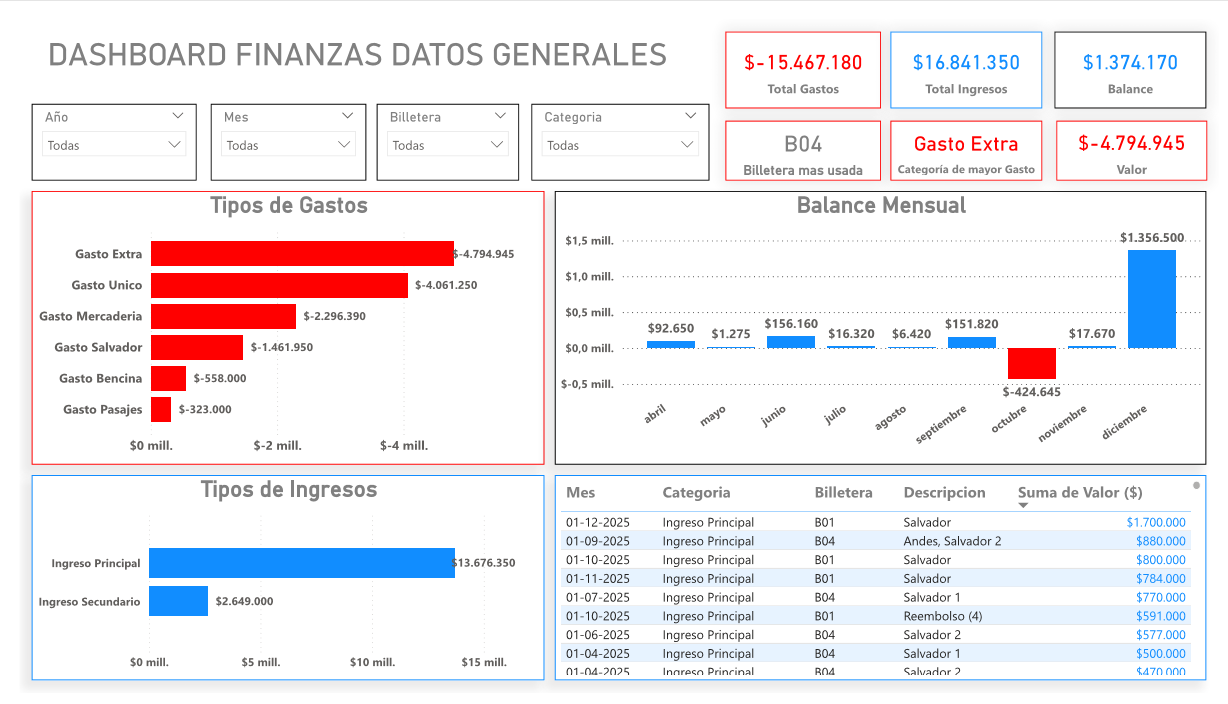

The page's visual inventory and layout, read from the dashboard file:
{"tool":"powerbi","page":{"name":"Dashboard Finanzas","canvas":[1280,720],"ordinal":0},"visuals":[{"type":"card","fields":{"Values":["Tabla_Finanzas.Total Gastos"]},"box":[752.9,14.3,165.7,81.4],"z":0},{"type":"card","fields":{"Values":["Min(Tabla_Finanzas.Categoria)"]},"box":[928.6,108.6,162.9,64.3],"z":1000},{"type":"card","fields":{"Values":["Min(Tabla_Finanzas.Billetera)"]},"box":[752.9,108.6,165.7,64.3],"z":2000},{"type":"barChart","title":"Tipos de Gastos","fields":{"Category":["Tabla_Finanzas.Categoria"],"Y":["Sum(Tabla_Finanzas.Valor ($))"]},"box":[12.9,184.3,547.1,291.4],"z":3000},{"type":"columnChart","title":"Balance Mensual","fields":{"Y":["Sum(Tabla_Finanzas.Valor ($))"],"Category":["Calendario.Date.Variación.Jerarquía de fechas.Mes"]},"box":[571.4,184.3,694.3,291.4],"z":4000},{"type":"tableEx","fields":{"Values":["Tabla_Finanzas.Mes","Tabla_Finanzas.Categoria","Tabla_Finanzas.Billetera","Tabla_Finanzas.Descripcion","Sum(Tabla_Finanzas.Valor ($))"]},"box":[571.4,487.1,694.3,218.6],"z":5000},{"type":"slicer","fields":{"Values":["Calendario.Date.Variación.Jerarquía de fechas.Mes"]},"box":[204.3,91.4,165.7,81.4],"z":6000},{"type":"slicer","fields":{"Values":["Tabla_Finanzas.Billetera"]},"box":[381.4,91.4,151.4,81.4],"z":7000},{"type":"slicer","fields":{"Values":["Tabla_Finanzas.Categoria"]},"box":[545.7,91.4,190,81.4],"z":8000},{"type":"barChart","title":"Tipos de Ingresos","fields":{"Category":["Tabla_Finanzas.Categoria"],"Y":["Sum(Tabla_Finanzas.Valor ($))"]},"box":[12.9,487.1,547.1,218.6],"z":9000},{"type":"card","fields":{"Values":["Tabla_Finanzas.Total Ingresos"]},"box":[928.6,14.3,162.9,81.4],"z":10000},{"type":"card","fields":{"Values":["Tabla_Finanzas.Balance"]},"box":[1104.3,14.3,161.4,81.4],"z":11000},{"type":"slicer","fields":{"Values":["Calendario.Date.Variación.Jerarquía de fechas.Año"]},"box":[12.9,91.4,175.7,81.4],"z":12000},{"type":"card","fields":{"Values":["Sum(Tabla_Finanzas.Valor ($))"]},"box":[1105.7,108.6,161.4,64.3],"z":13000},{"type":"textbox","box":[13.3,14.5,694.9,66.4],"z":14000}]}

Visuals, with their boxes in screenshot pixels (x1, y1, x2, y2), scaled from the page's 1280x720 canvas onto the 1228x704 screenshot:
card - Tabla_Finanzas.Total Gastos: 722:14:881:94
card - Min(Tabla_Finanzas.Categoria): 891:106:1047:169
card - Min(Tabla_Finanzas.Billetera): 722:106:881:169
"Tipos de Gastos" barChart: 12:180:537:465
"Balance Mensual" columnChart: 548:180:1214:465
tableEx - Tabla_Finanzas.Mes x Tabla_Finanzas.Categoria: 548:476:1214:690
slicer - Calendario.Date.Variación.Jerarquía de fechas.Mes: 196:89:355:169
slicer - Tabla_Finanzas.Billetera: 366:89:511:169
slicer - Tabla_Finanzas.Categoria: 524:89:706:169
"Tipos de Ingresos" barChart: 12:476:537:690
card - Tabla_Finanzas.Total Ingresos: 891:14:1047:94
card - Tabla_Finanzas.Balance: 1059:14:1214:94
slicer - Calendario.Date.Variación.Jerarquía de fechas.Año: 12:89:181:169
card - Sum(Tabla_Finanzas.Valor ($)): 1061:106:1216:169
textbox: 13:14:679:79
